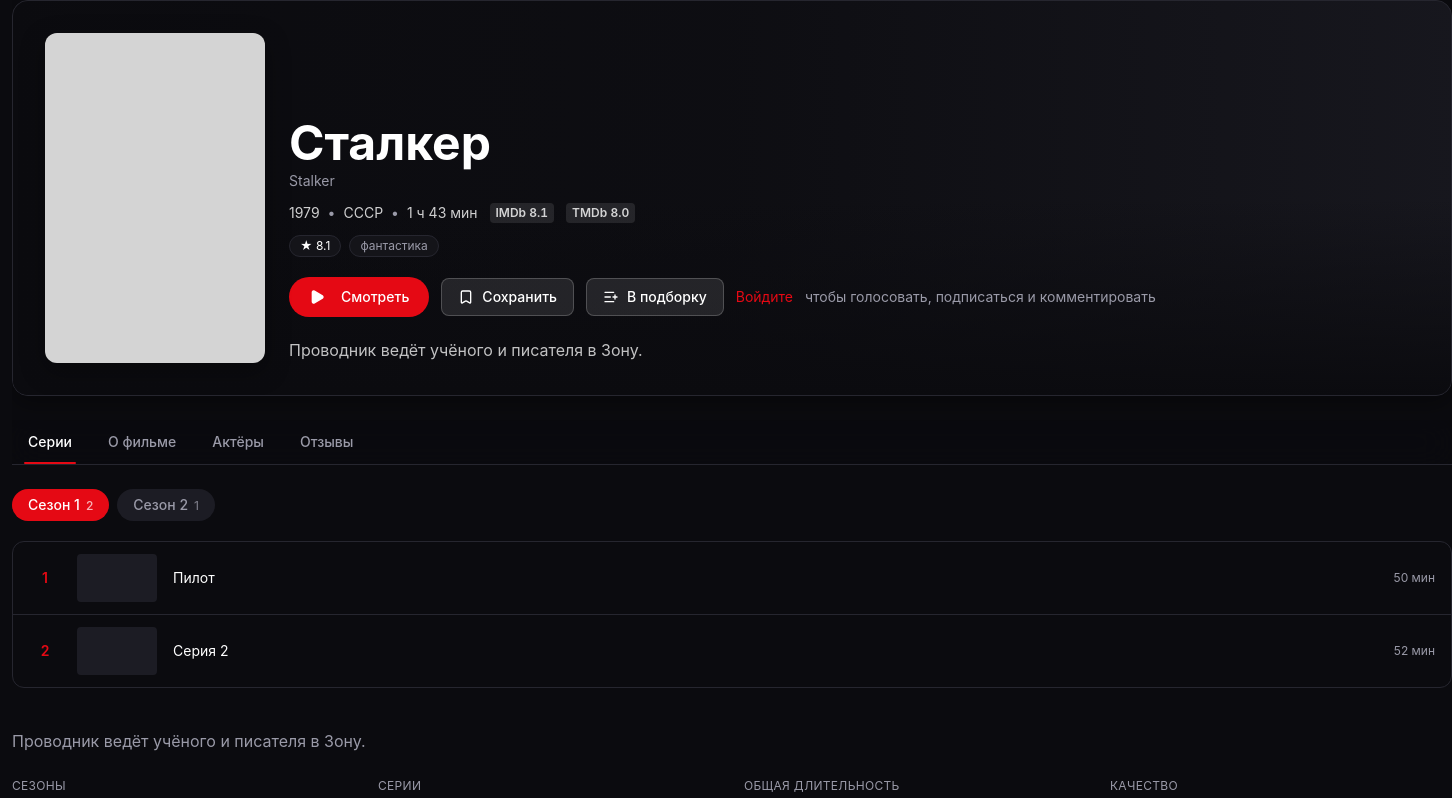
Test: ItemDetailView › переключает сезоны и ведёт на эпизод
Expected: the number of links with test id "episode-row" is 2, top-left (13, 542), bottom-right (1451, 614); top-left (13, 615), bottom-right (1451, 687)
Click the button with test id "season-tab" showing "Сезон 21": (166, 505) top-left (117, 489), bottom-right (215, 521)
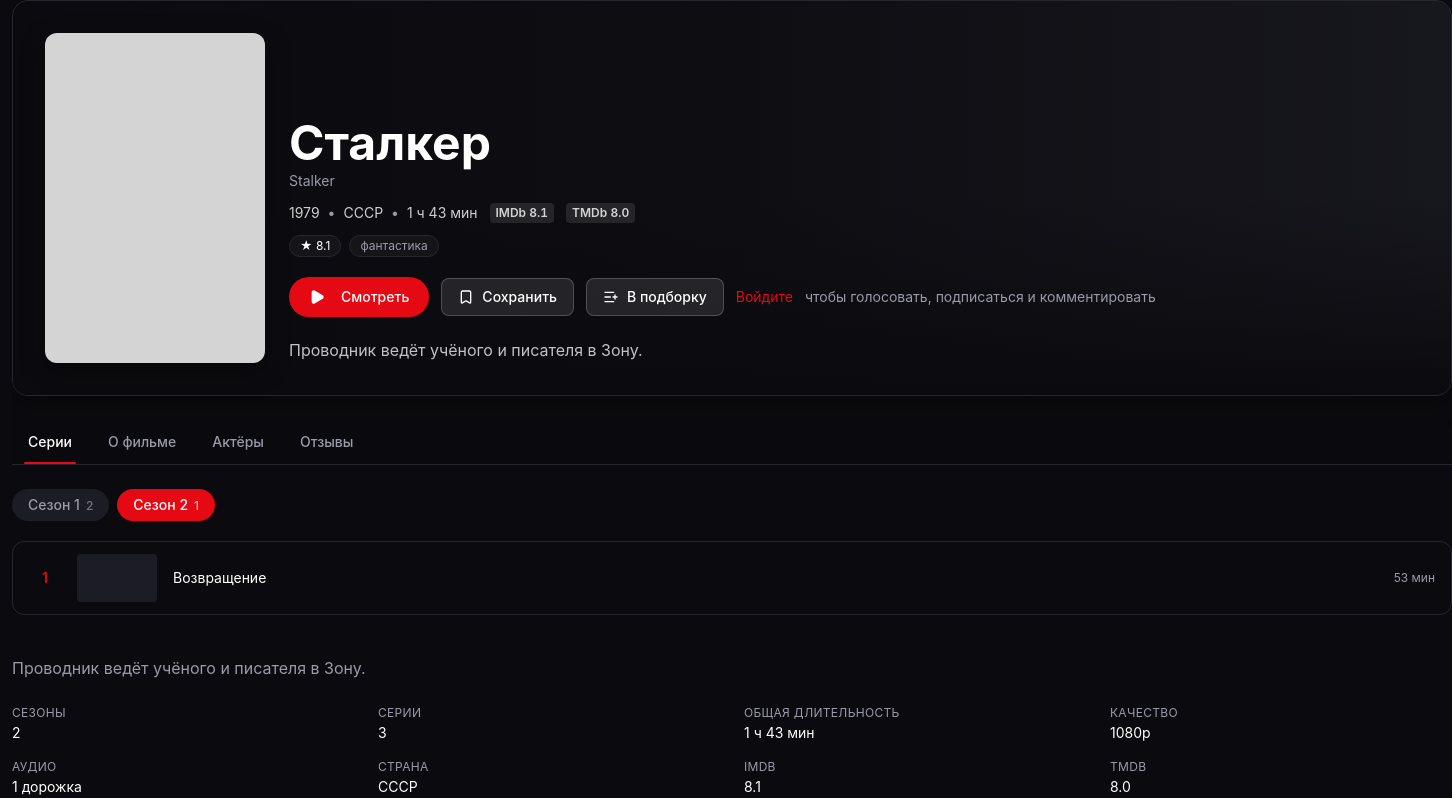
Now the number of links with test id "episode-row" is 1, box top-left (13, 542), bottom-right (1451, 614)
Now the link with test id "episode-row" shows "Возвращение", box top-left (13, 542), bottom-right (1451, 614)
